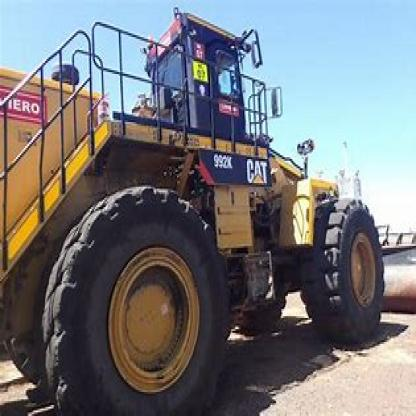bull_dozer/loader/grader: (8, 7, 403, 414)
